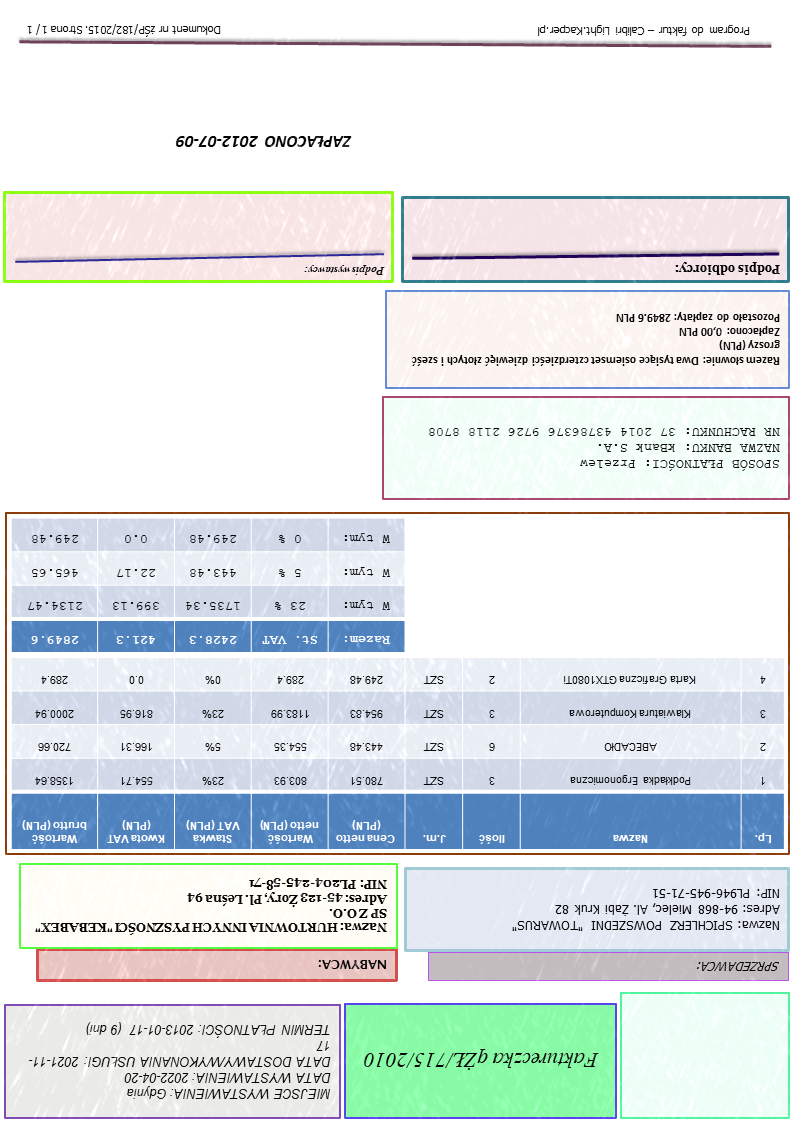Table: (13, 656, 786, 853), (10, 516, 406, 655)
TextBox: (27, 1017, 333, 1104), (410, 309, 783, 371), (30, 876, 391, 937), (426, 422, 783, 474), (509, 883, 784, 938), (362, 1047, 604, 1074), (536, 21, 754, 41), (173, 132, 354, 153), (24, 21, 223, 40), (674, 259, 784, 281), (304, 263, 388, 282), (697, 959, 782, 977), (318, 955, 391, 974)
